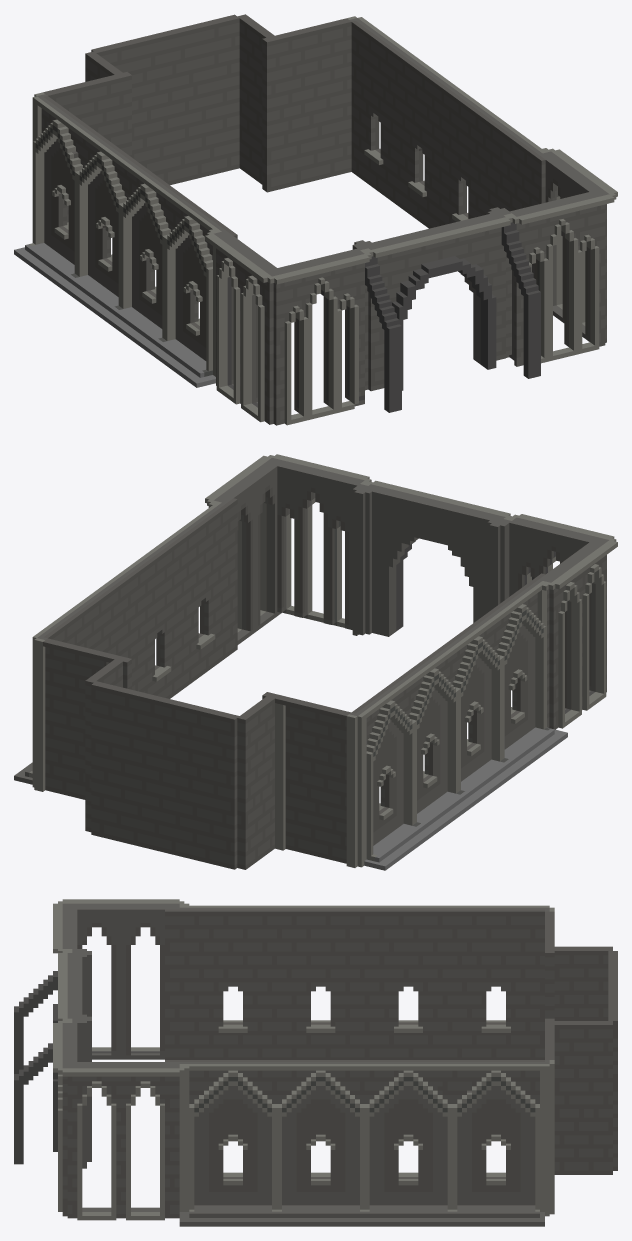
Rendered from church-83-ch_baselower.obj.
The picture shows the model from 3 angles, top to bottom: view 1: azimuth 30°, elevation 25°; view 2: azimuth 150°, elevation 25°; view 3: azimuth 270°, elevation 25°; orthographic projection.
Parts seen in each view (by area): view 1: ch_baselower; view 2: ch_baselower; view 3: ch_baselower.
Boxes of the visible parts, x1,y1,x2,y2 form: ch_baselower: (14,14,617,425); ch_baselower: (14,454,617,870); ch_baselower: (14,899,617,1226).
Size of the model in its own units: 8.8 by 3.4 by 12.4.
Materials: 1 (1 with a texture image).
